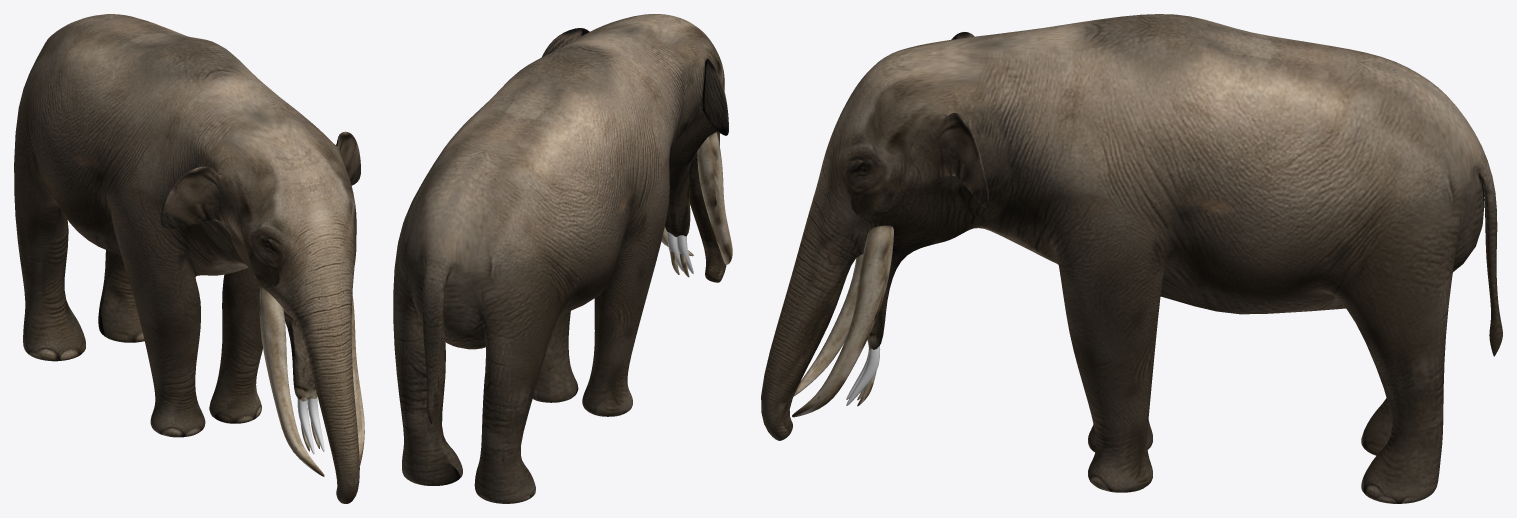
The model's file is 01 Gomphotherium (ช้างสี่งากอมโฟธีเรียม).fbx.
The picture shows the model from 3 angles, left to right: view 1: azimuth 30°, elevation 25°; view 2: azimuth 150°, elevation 25°; view 3: azimuth 270°, elevation 25°; orthographic projection. The views are drawn at different scales.
Parts seen in each view (by area): view 1: Cube, Cube.001, Cube.002; view 2: Cube, Cube.001, Cube.002; view 3: Cube, Cube.001.
Part boxes in pixels (x1=…): Cube: x1=14, y1=14, x2=360, y2=503; Cube.001: x1=259, y1=285, x2=364, y2=476; Cube.002: x1=297, y1=396, x2=324, y2=454; Cube: x1=393, y1=14, x2=728, y2=503; Cube.001: x1=661, y1=132, x2=732, y2=264; Cube.002: x1=667, y1=232, x2=693, y2=273; Cube: x1=761, y1=14, x2=1502, y2=503; Cube.001: x1=792, y1=225, x2=893, y2=417.
Size of the model in its own units: 492 by 847 by 1291.
Materials: 1 (1 with a texture image).
